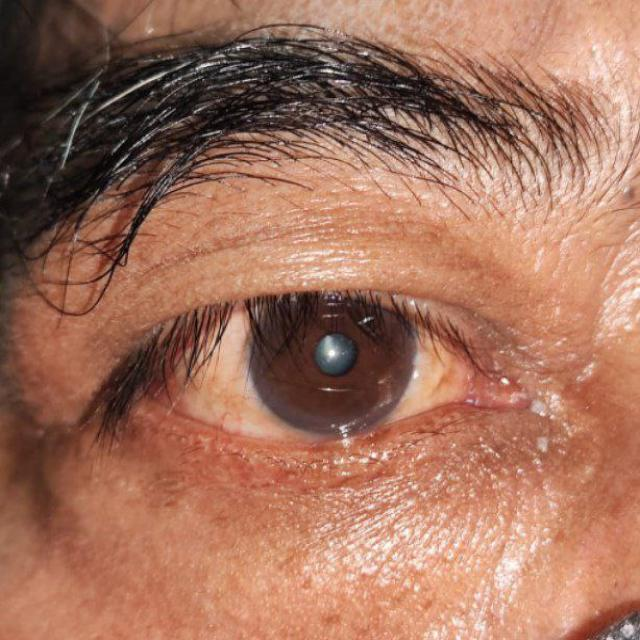Cataract: (249, 261, 420, 442)
